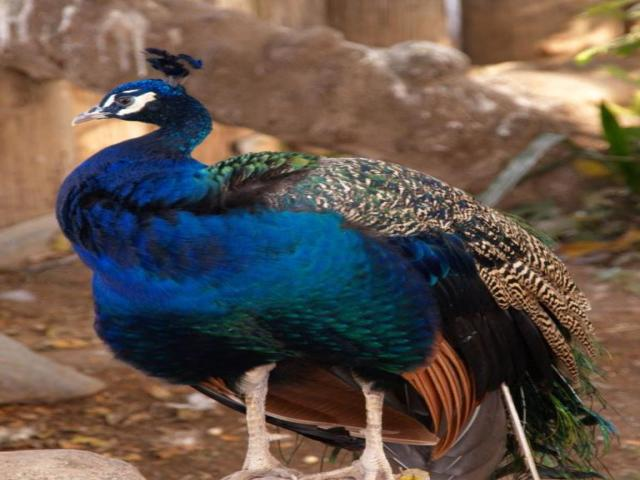Bird: (56, 47, 616, 479)
